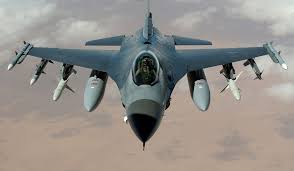fighter: (7, 3, 288, 146)
